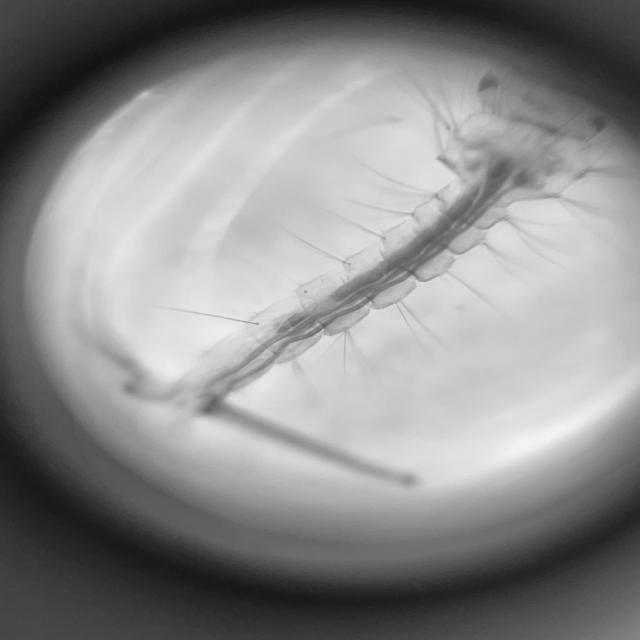larvas: (148, 63, 584, 420)
